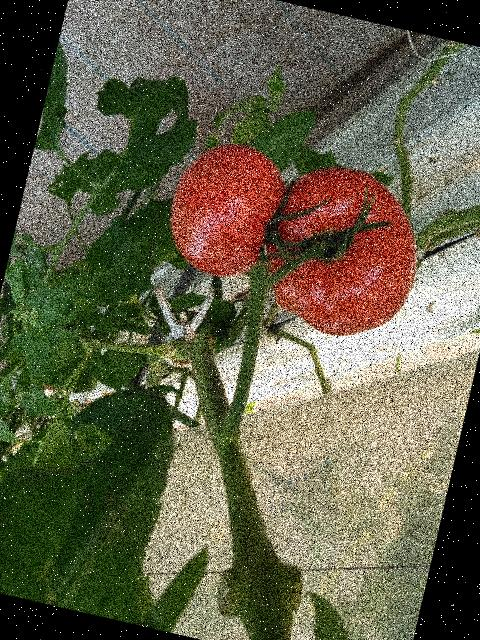b_fully_ripened: (248, 154, 436, 351), (157, 131, 294, 287)
